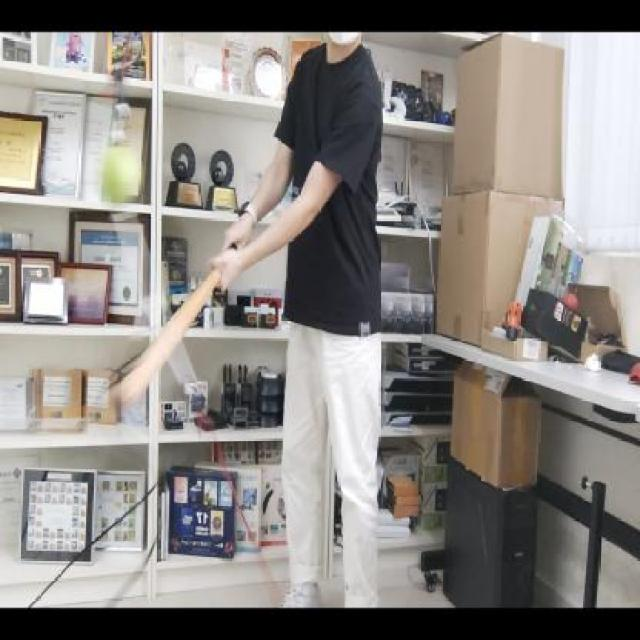baseball: (103, 144, 148, 208)
